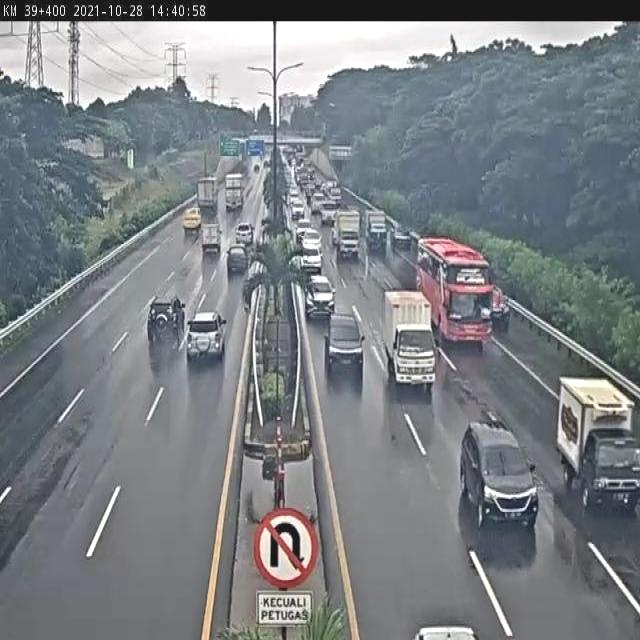Bus: (417, 234, 499, 349)
Car: (464, 422, 542, 530), (324, 312, 364, 382), (184, 311, 230, 368), (146, 291, 184, 344), (303, 275, 335, 320), (490, 286, 512, 331), (226, 243, 248, 274), (300, 245, 321, 269), (393, 225, 412, 251), (235, 222, 254, 245)
Truck: (555, 379, 638, 512), (377, 295, 442, 390), (332, 209, 361, 261), (363, 209, 388, 254), (196, 176, 218, 214), (224, 172, 245, 210), (201, 222, 221, 255), (182, 207, 202, 232)
